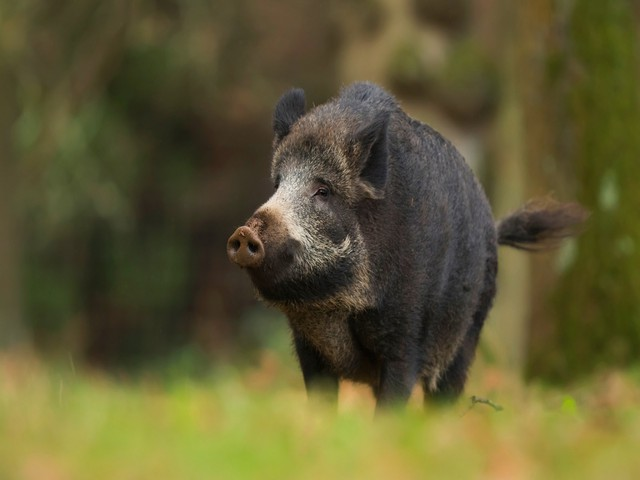Pig: (225, 80, 598, 397)
